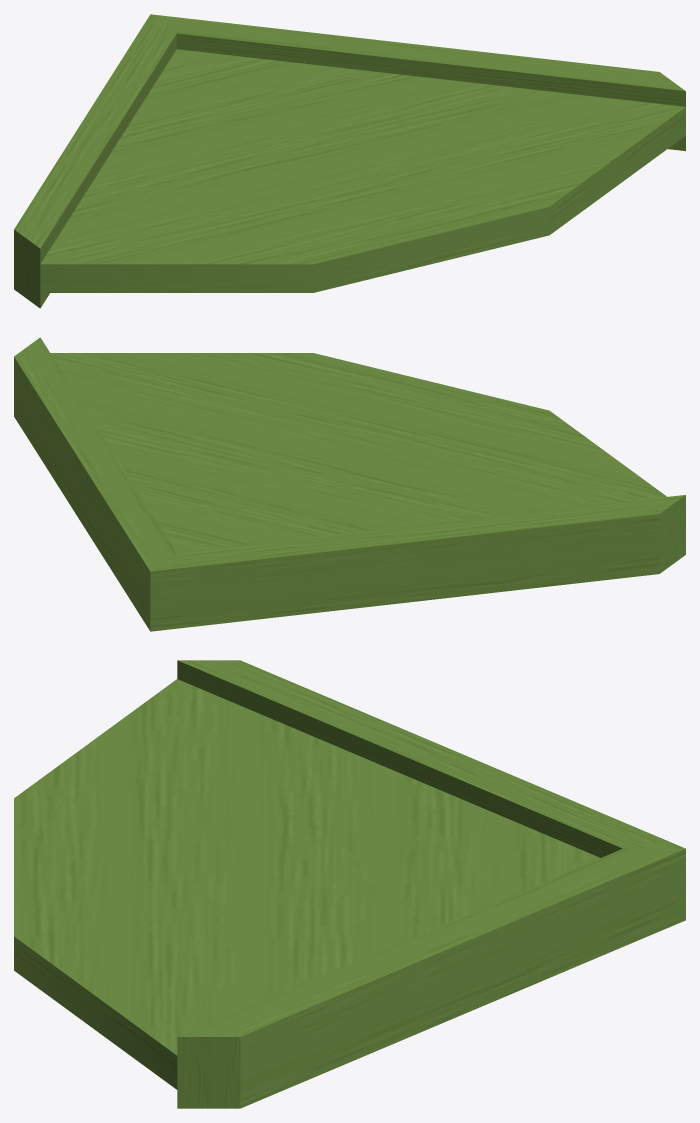
Rendered from Corner_Shelving_B_04.FBX.
The picture shows the model from 3 angles, top to bottom: view 1: azimuth 30°, elevation 25°; view 2: azimuth 150°, elevation 25°; view 3: azimuth 270°, elevation 25°; orthographic projection. The views are drawn at different scales.
Visible parts, largest first — view 1: Corner_Shelving_B; view 2: Corner_Shelving_B; view 3: Corner_Shelving_B.
Part boxes in pixels (x1,y1,x2,y2): Corner_Shelving_B: (14,14,685,308); Corner_Shelving_B: (14,337,685,631); Corner_Shelving_B: (14,660,685,1108).
Size of the model in its own units: 141 by 12.55 by 107.
